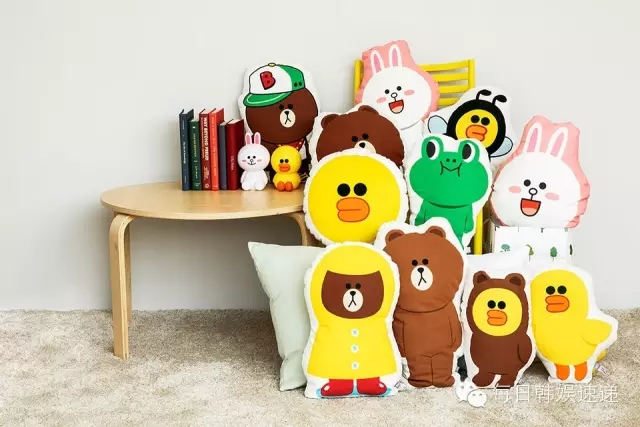line_brown: (377, 221, 469, 316), (310, 258, 393, 325), (244, 84, 320, 145)
